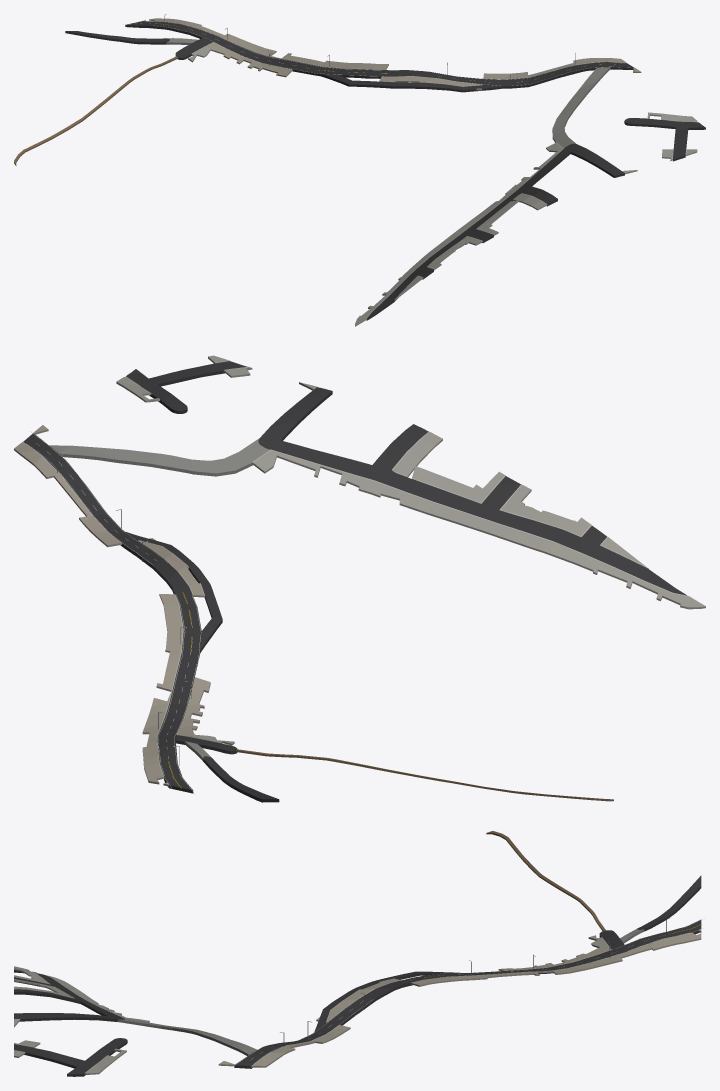
3 views of the same model, one above another, from view 1: azimuth 30°, elevation 25°; view 2: azimuth 150°, elevation 25°; view 3: azimuth 270°, elevation 25° (orthographic). The views are drawn at different scales.
Bounding box in the file's own units: 296 × 59.42 × 293.
